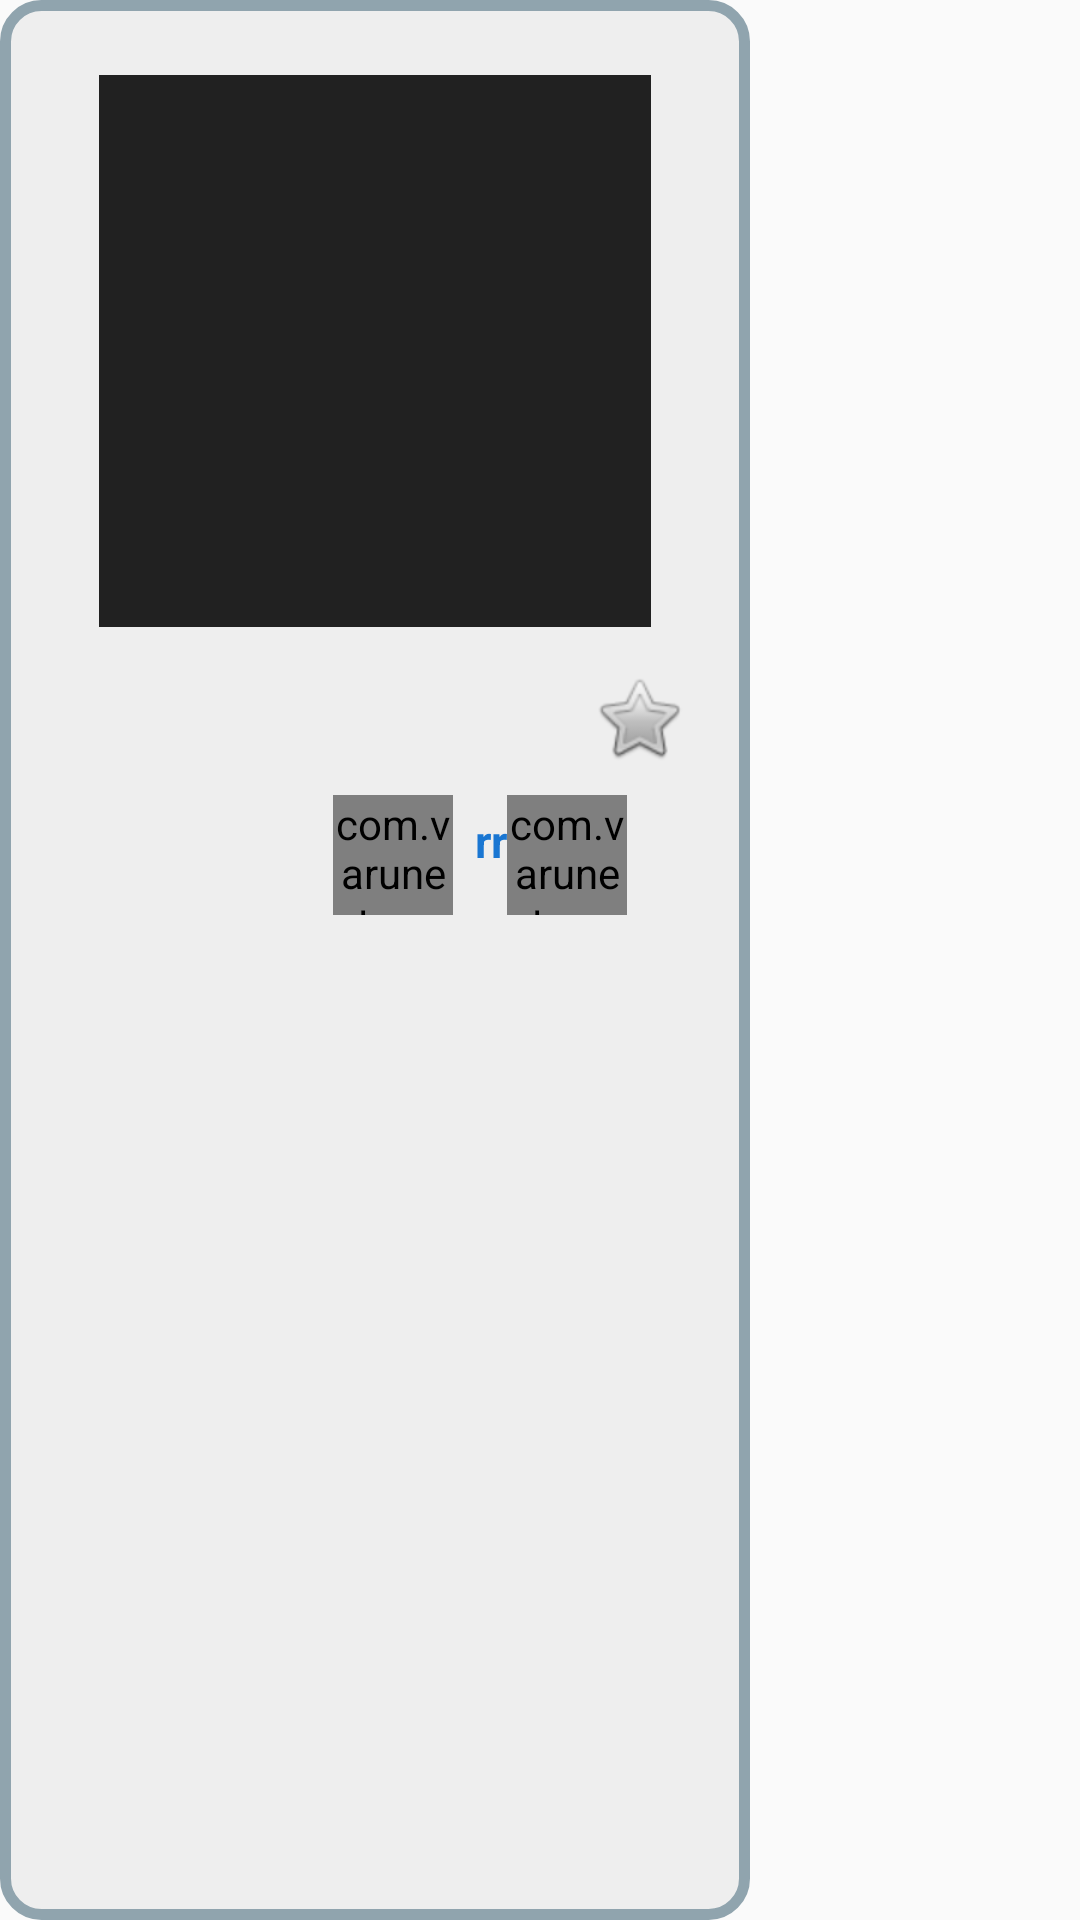

Where icons sit on this 1080px x 1920px app screen, as (x1=x1, y1=y1, x2=x2, y2=y2):
star: (x1=600, y1=680, x2=680, y2=758)
